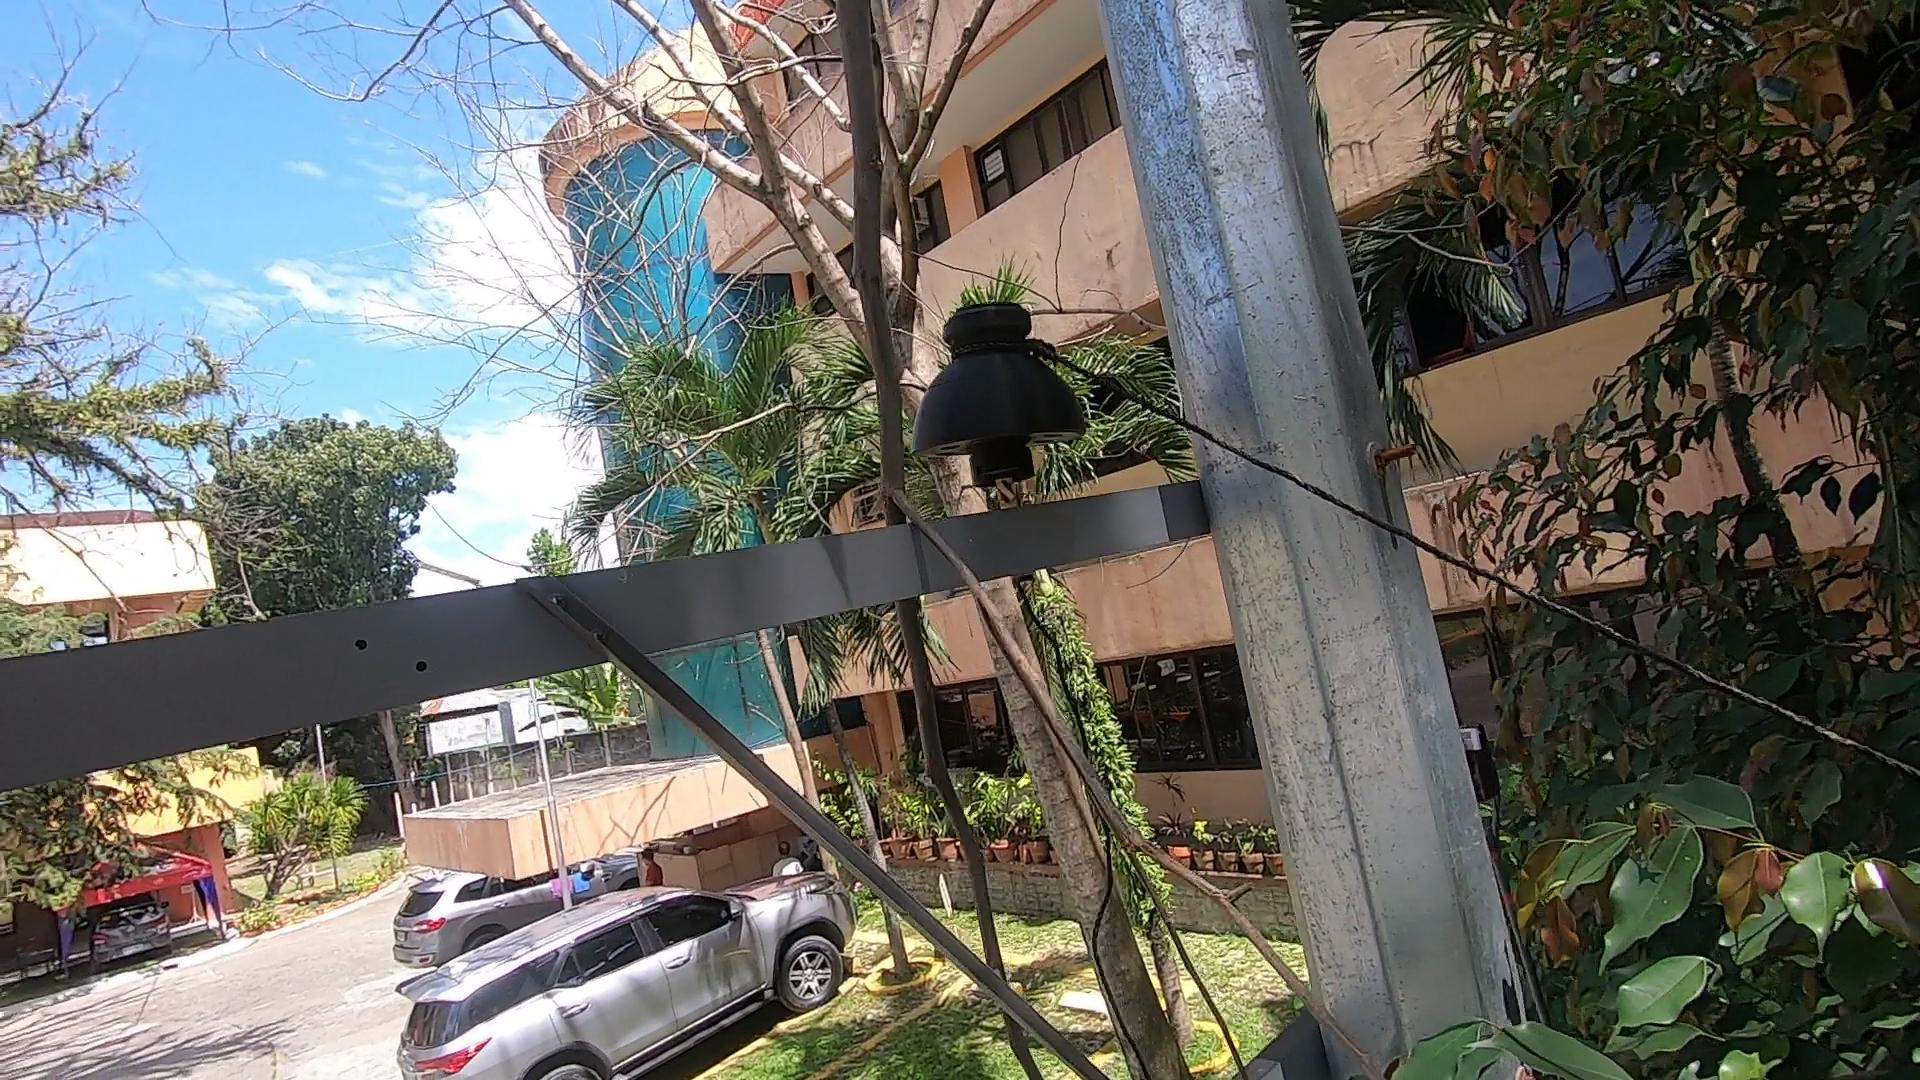tree branch: (760, 3, 1393, 1080)
